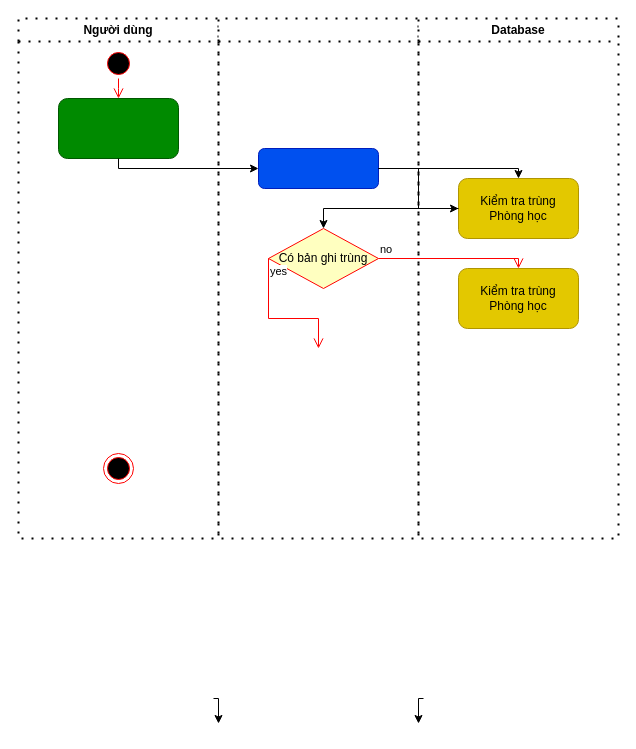
The diagram is 636 pixels wide and 749 high, and some of its shapes have lost their labels. Here are the shapes that lost their labels. From the top down, the box of each, then its label:
(58, 98, 178, 158): Chọn phòng học, thứ, tiết và ấn Lưu
(258, 148, 378, 188): Tiếp nhận thông tin
(217, 17, 419, 539): Hệ thống
